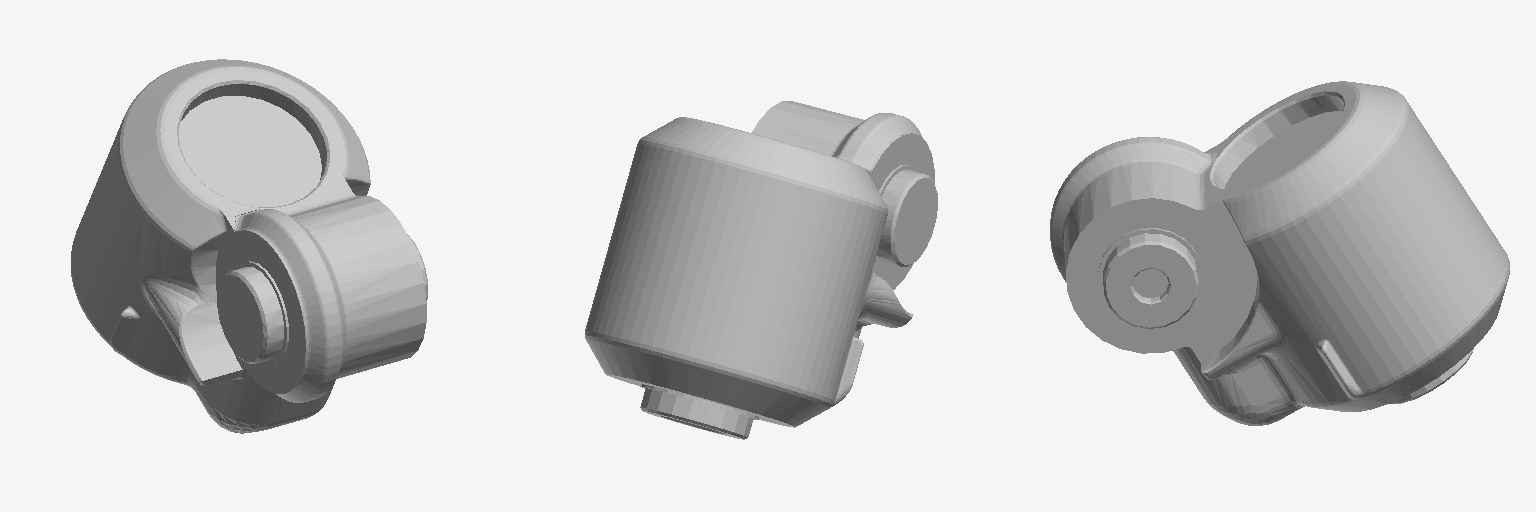
The model's file is converted_r3_finger_knuckle_808080ff.obj.
3 views of the same model, side by side, from view 1: azimuth 30°, elevation 25°; view 2: azimuth 150°, elevation 25°; view 3: azimuth 270°, elevation 25° (orthographic).
Bounding box in the file's own units: 0.0473 × 0.0615 × 0.0813.